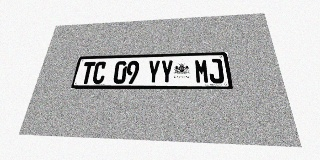0: (113, 61, 127, 84)
9: (125, 61, 140, 84)
C: (91, 61, 107, 84)
J: (208, 59, 224, 83)
M: (194, 59, 210, 83)
T: (80, 62, 96, 84)
Y: (147, 60, 160, 84), (160, 60, 173, 84)
